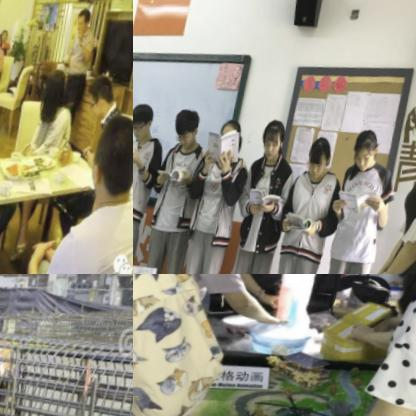head: (89, 111, 133, 208), (87, 73, 121, 121), (171, 108, 206, 151), (352, 130, 383, 176), (260, 118, 290, 164), (307, 136, 335, 182), (217, 117, 247, 159), (39, 69, 69, 109), (133, 102, 156, 143), (74, 7, 94, 38), (0, 27, 11, 44), (0, 30, 5, 51)
